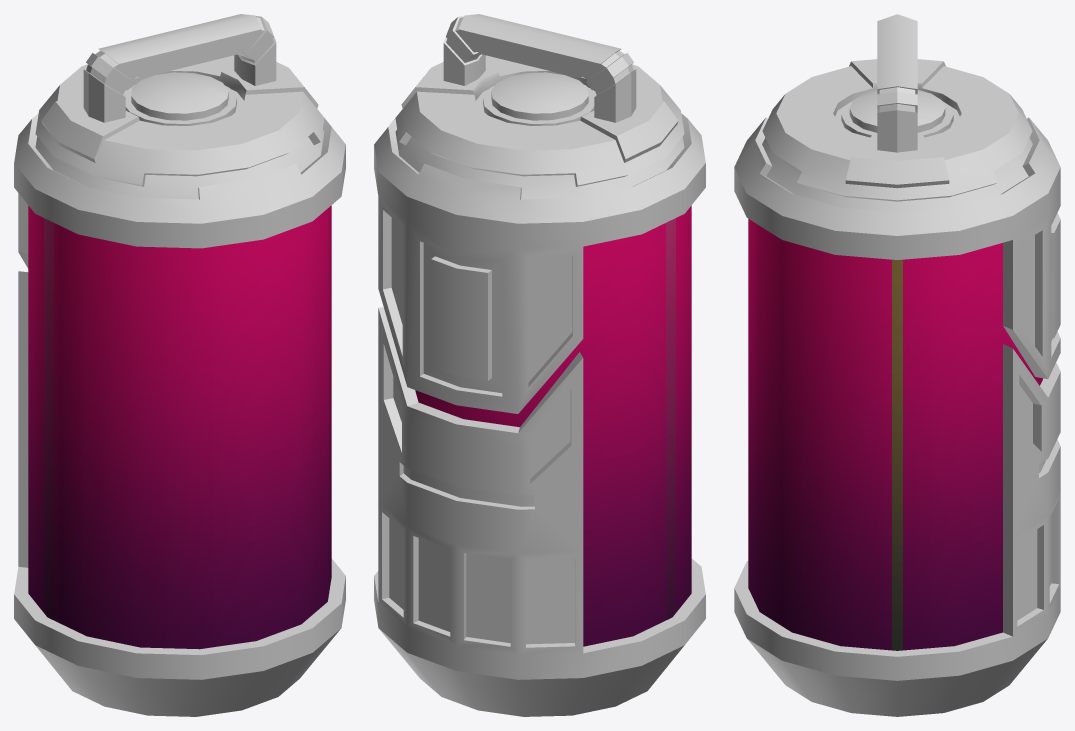
The picture shows the model from 3 angles, left to right: view 1: azimuth 30°, elevation 25°; view 2: azimuth 150°, elevation 25°; view 3: azimuth 270°, elevation 25°; orthographic projection. The views are drawn at different scales.
Parts seen in each view (by area): view 1: Cylinder Container; view 2: Cylinder Container; view 3: Cylinder Container.
Boxes of the visible parts, left/top/right/bottom form: Cylinder Container: left=14, top=14, right=345, bottom=716; Cylinder Container: left=374, top=14, right=705, bottom=716; Cylinder Container: left=734, top=14, right=1060, bottom=716.
Bounding box in the file's own units: 2.69 × 5.6 × 2.69.
2 materials, 1 textured.
